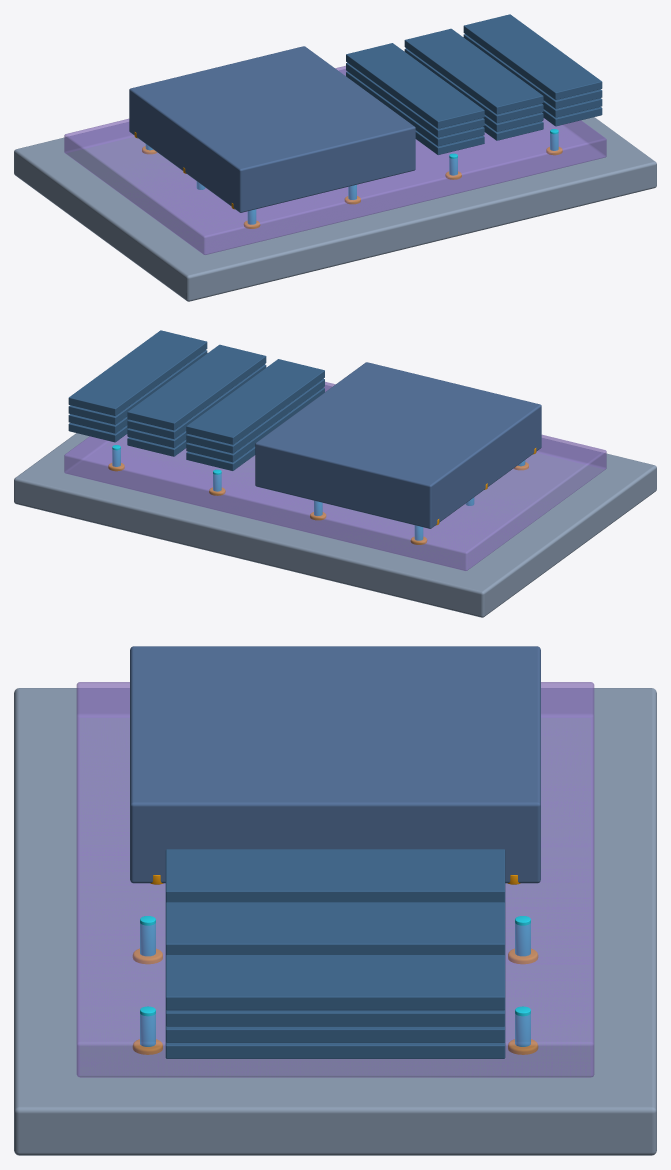
The model's file is advpack.glb.
3 views of the same model, one above another, from view 1: azimuth 30°, elevation 25°; view 2: azimuth 150°, elevation 25°; view 3: azimuth 270°, elevation 25° (orthographic). The views are drawn at different scales.
Visible parts, largest first — view 1: pkg_sub, logic, interposer, hbm1_3, hbm2_3, hbm0_3, hbm0_2, hbm0_1, hbm2_2, hbm1_2, hbm0_0, hbm1_1 (+3 smaller); view 2: pkg_sub, logic, interposer, hbm1_3, hbm2_3, hbm0_3, hbm0_2, hbm0_1, hbm2_2, hbm1_2, hbm0_0, hbm1_1 (+3 smaller); view 3: pkg_sub, logic, interposer, hbm2_3, hbm0_3, hbm1_3, hbm2_1, hbm2_0, hbm2_2.
Part boxes in pixels (left/top/right/bottom): pkg_sub: left=14, top=69, right=656, bottom=301; logic: left=129, top=46, right=415, bottom=212; interposer: left=64, top=65, right=606, bottom=254; hbm1_3: left=404, top=28, right=543, bottom=114; hbm2_3: left=463, top=14, right=602, bottom=99; hbm0_3: left=346, top=43, right=484, bottom=128; hbm0_2: left=346, top=62, right=484, bottom=137; hbm0_1: left=346, top=71, right=484, bottom=146; hbm2_2: left=463, top=34, right=602, bottom=108; hbm1_2: left=404, top=48, right=543, bottom=122; hbm0_0: left=415, top=130, right=484, bottom=154; hbm1_1: left=483, top=112, right=543, bottom=131; pkg_sub: left=14, top=385, right=656, bottom=617; logic: left=255, top=362, right=541, bottom=528; interposer: left=64, top=381, right=606, bottom=570; hbm1_3: left=127, top=344, right=266, bottom=430; hbm2_3: left=68, top=330, right=207, bottom=415; hbm0_3: left=186, top=359, right=324, bottom=444; hbm0_2: left=186, top=378, right=324, bottom=453; hbm0_1: left=186, top=387, right=324, bottom=462; hbm2_2: left=68, top=350, right=207, bottom=424; hbm1_2: left=127, top=364, right=266, bottom=438; hbm0_0: left=186, top=446, right=255, bottom=470; hbm1_1: left=127, top=428, right=187, bottom=447; pkg_sub: left=14, top=688, right=656, bottom=1155; logic: left=130, top=646, right=540, bottom=883; interposer: left=76, top=682, right=594, bottom=1077; hbm2_3: left=165, top=955, right=505, bottom=1010; hbm0_3: left=165, top=849, right=505, bottom=902; hbm1_3: left=165, top=902, right=505, bottom=955; hbm2_1: left=165, top=1025, right=505, bottom=1042; hbm2_0: left=165, top=1042, right=505, bottom=1058; hbm2_2: left=165, top=1009, right=505, bottom=1026.
Bounding box in the file's own units: 5.6 × 1.02 × 3.6.
